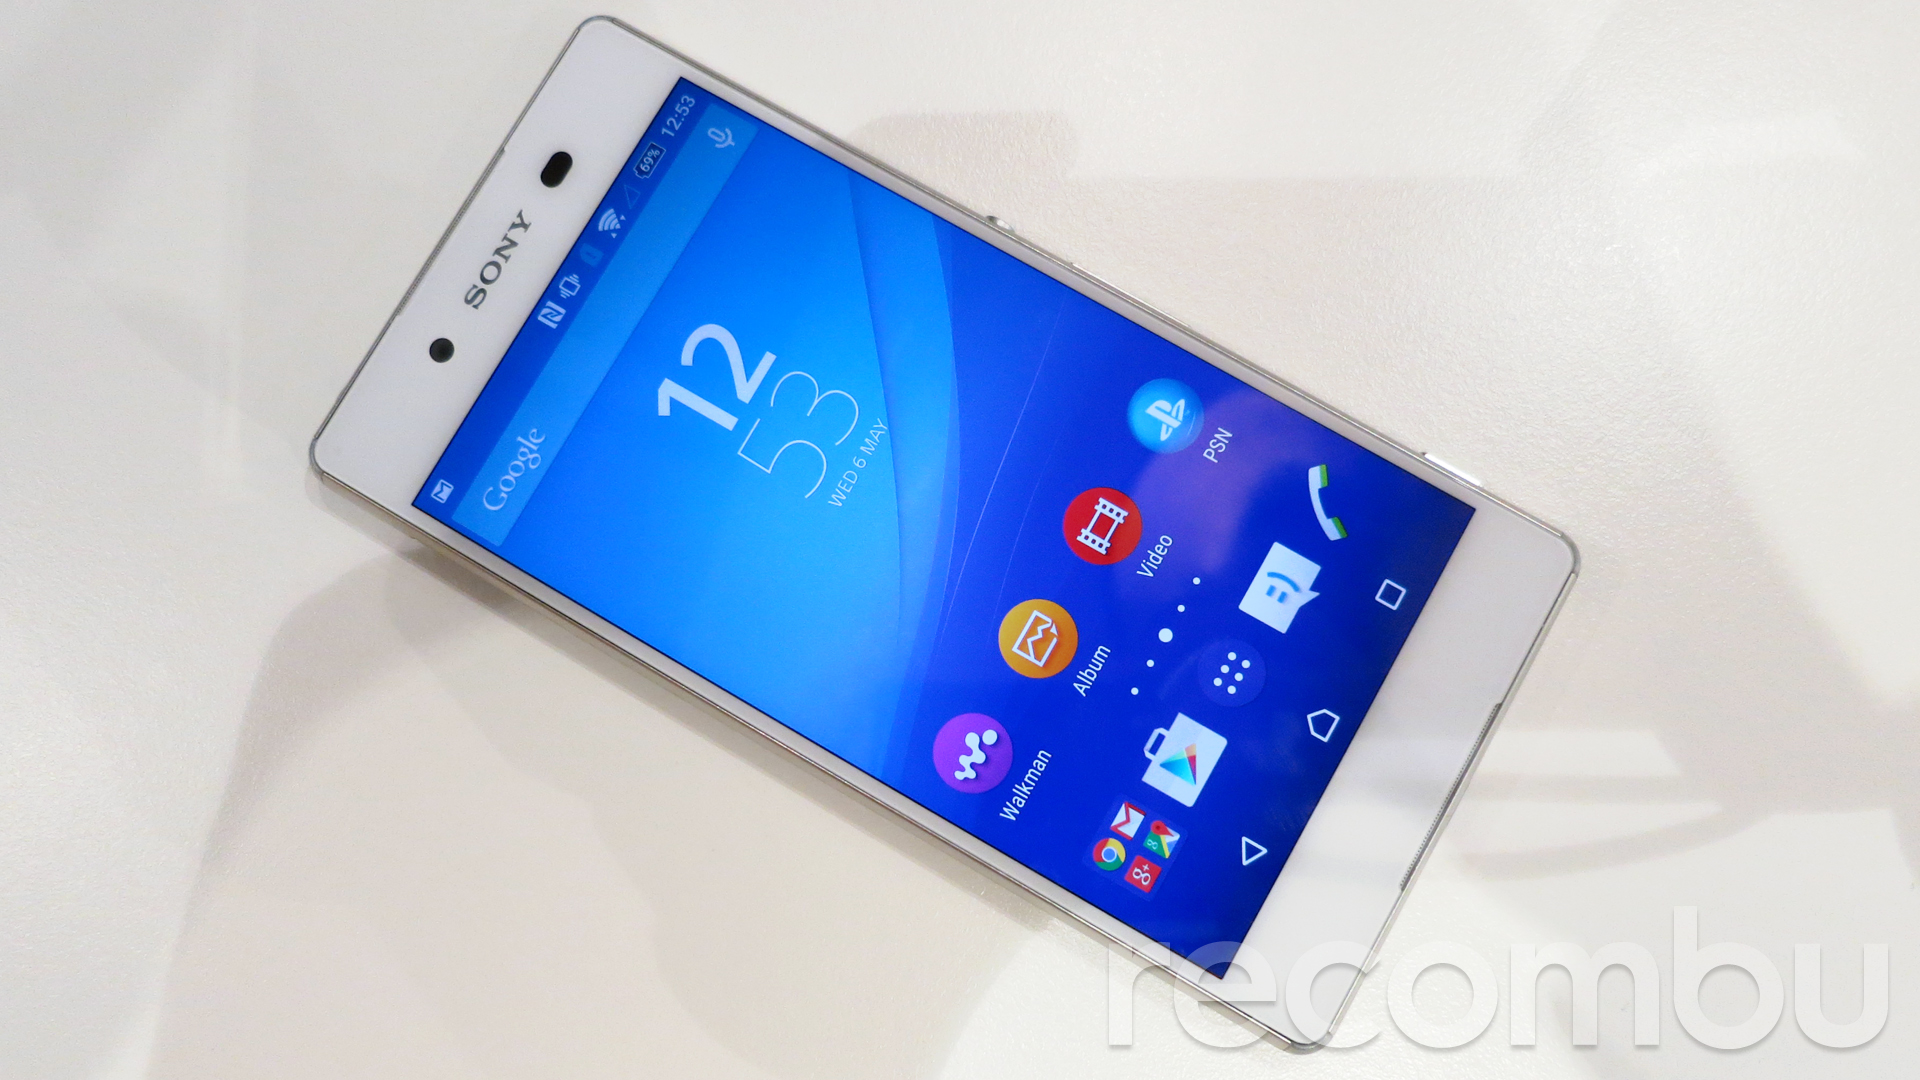smartphone: (309, 13, 1580, 1055)
